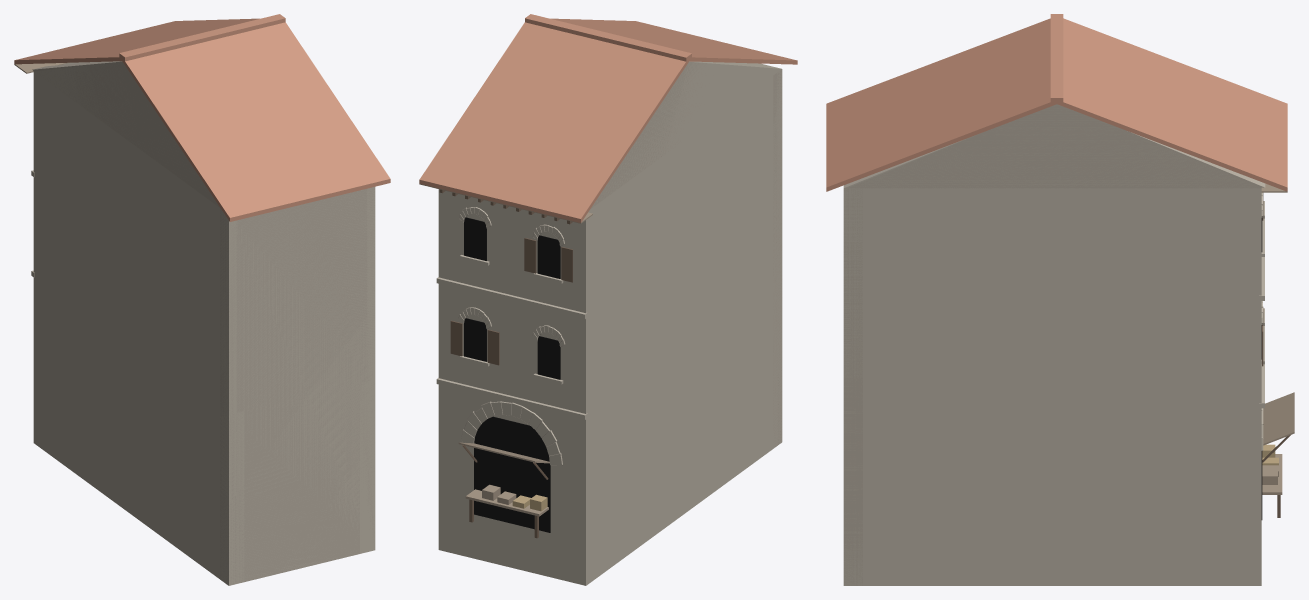
File: casa-52-2-pietra.glb
3 renders of one model, left to right at view 1: azimuth 30°, elevation 25°; view 2: azimuth 150°, elevation 25°; view 3: azimuth 270°, elevation 25°, orthographic. The views are drawn at different scales.
Visible parts, largest first — view 1: vicino, lontano; view 2: vicino, lontano, aperta; view 3: vicino, lontano, aperta.
Boxes of the visible parts, <box> form: vicino: <box>14,14,390,585</box>; lontano: <box>14,58,390,585</box>; vicino: <box>419,14,797,585</box>; lontano: <box>419,58,797,585</box>; aperta: <box>458,442,549,538</box>; vicino: <box>826,14,1287,585</box>; lontano: <box>826,101,1287,585</box>; aperta: <box>1262,392,1294,517</box>.
Size of the model in its own units: 5.7 by 15.58 by 13.45.
